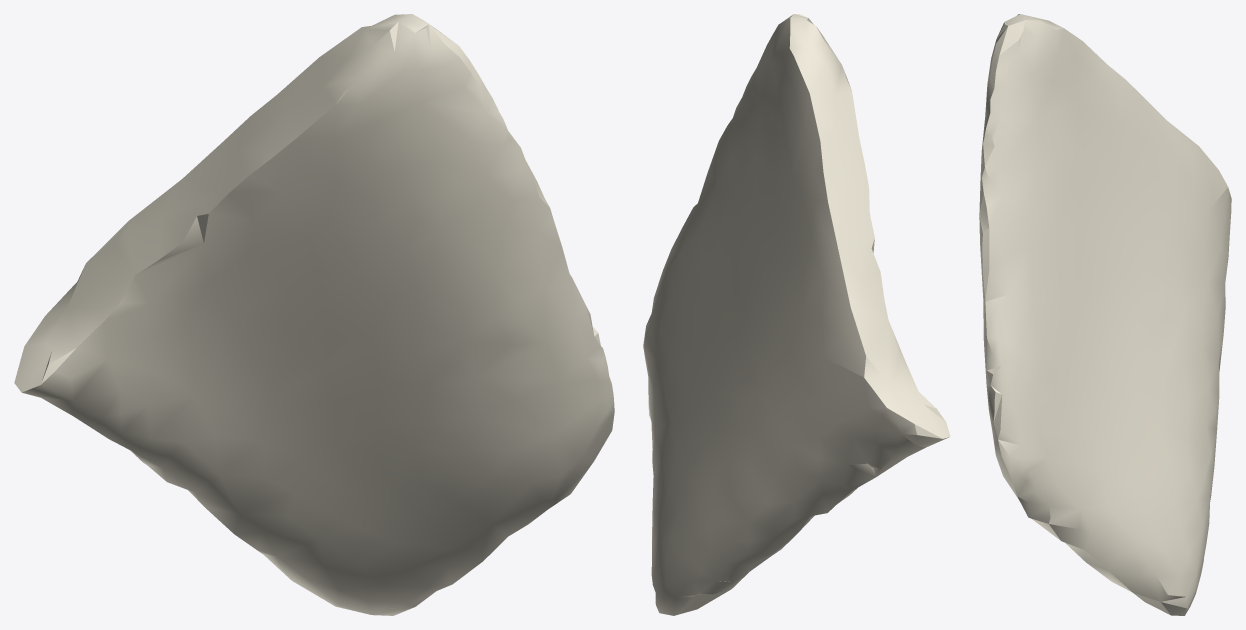
The model's file is fma323750-l_mm2018m.glb.
The picture shows the model from 3 angles, left to right: view 1: azimuth 30°, elevation 25°; view 2: azimuth 150°, elevation 25°; view 3: azimuth 270°, elevation 25°; orthographic projection. The views are drawn at different scales.
Visible parts, largest first — view 1: FMA323750-L_MM2018M; view 2: FMA323750-L_MM2018M; view 3: FMA323750-L_MM2018M.
Part boxes in pixels (x1,y1,x2,y2): FMA323750-L_MM2018M: (14, 14, 614, 615); FMA323750-L_MM2018M: (643, 14, 950, 615); FMA323750-L_MM2018M: (979, 14, 1231, 615).
Bounding box in the file's own units: 0.00723 × 0.00973 × 0.00391.
